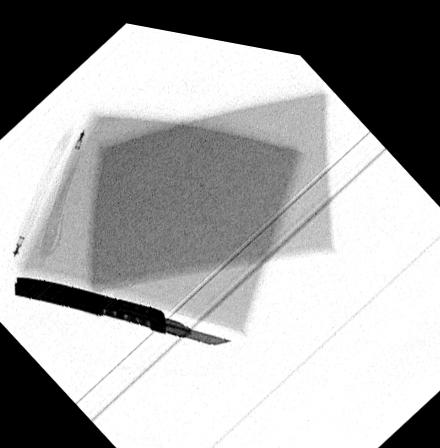Knife: (13, 276, 232, 337)
